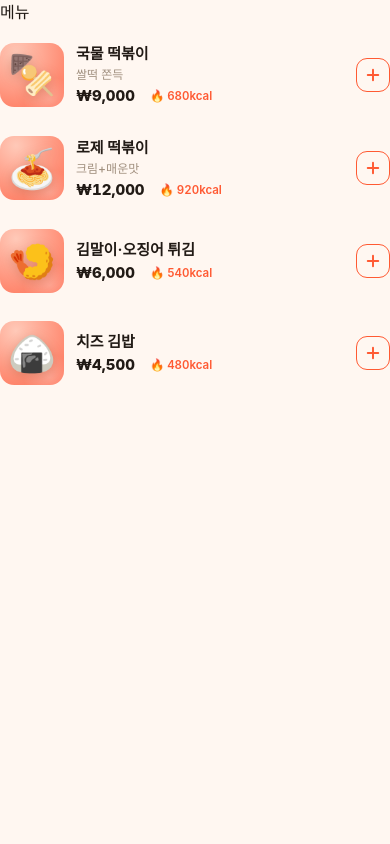
Scenario: ClearCartModal — store-switch confirm gate (D-09) › confirming replaces the cart with {restId:"r2", items:{[newId]:1}}
Click the button named "국물 떡볶이 담기".
click(373, 75)  # box [356,58,389,92]
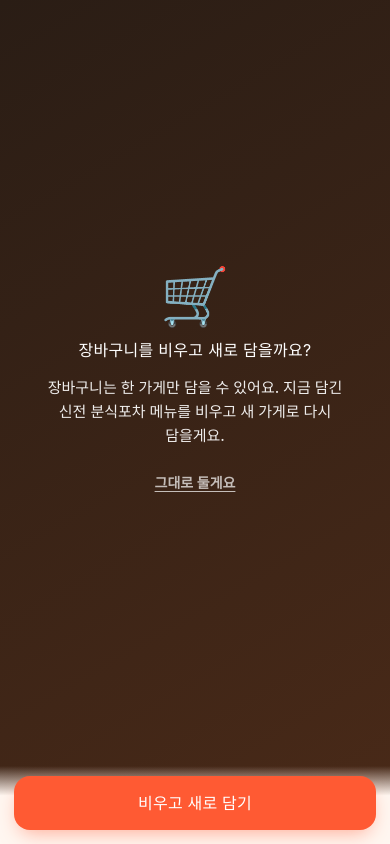
Click the button "비우고 새로 담기".
click(195, 803)  # box [14,776,376,830]
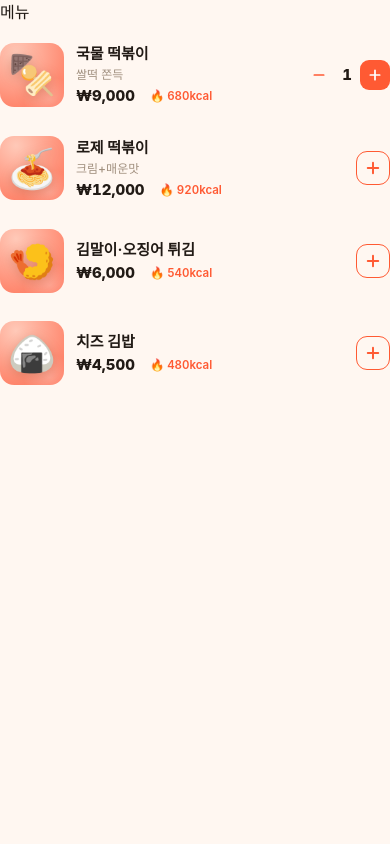
Expected: the dialog is gone
